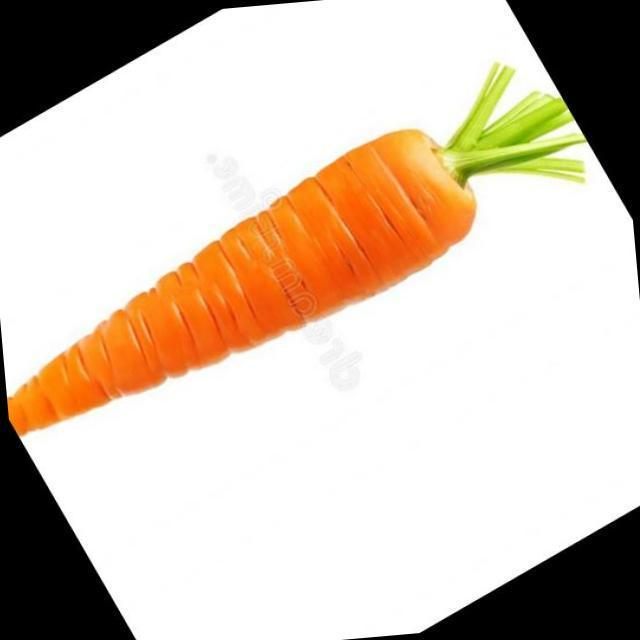carrot: (9, 64, 584, 433)
